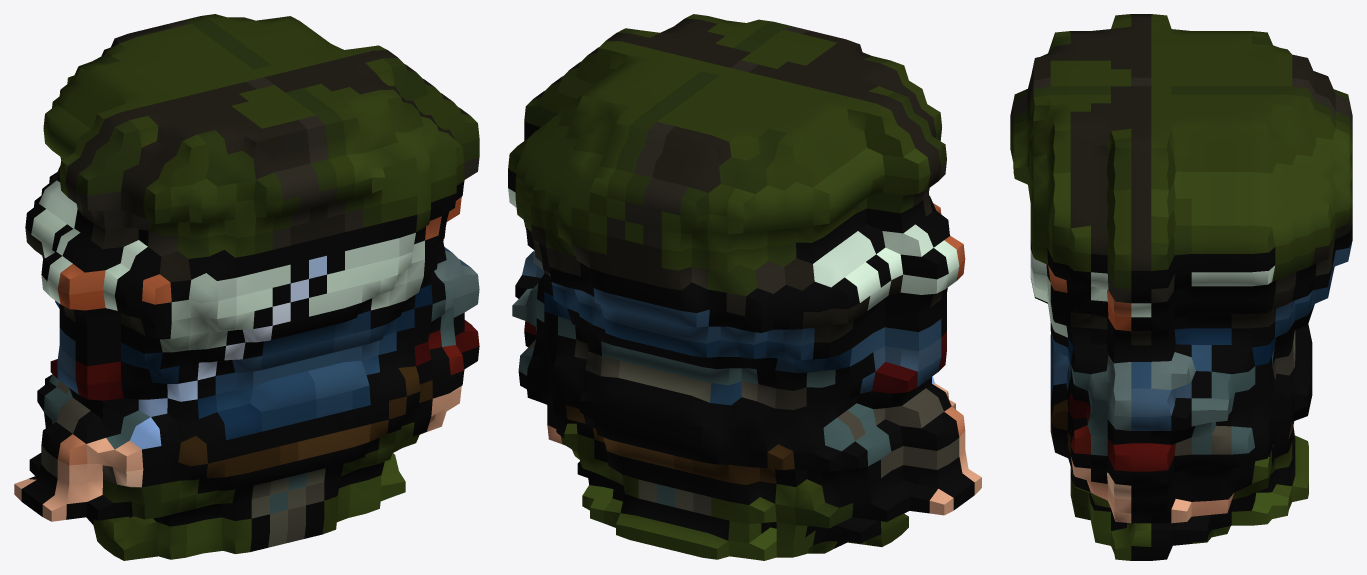
Rendered from Icon_714_02.obj.
The picture shows the model from 3 angles, left to right: view 1: azimuth 30°, elevation 25°; view 2: azimuth 150°, elevation 25°; view 3: azimuth 270°, elevation 25°; orthographic projection. The views are drawn at different scales.
Size of the model in its own units: 2.38 by 2.3 by 1.7.
